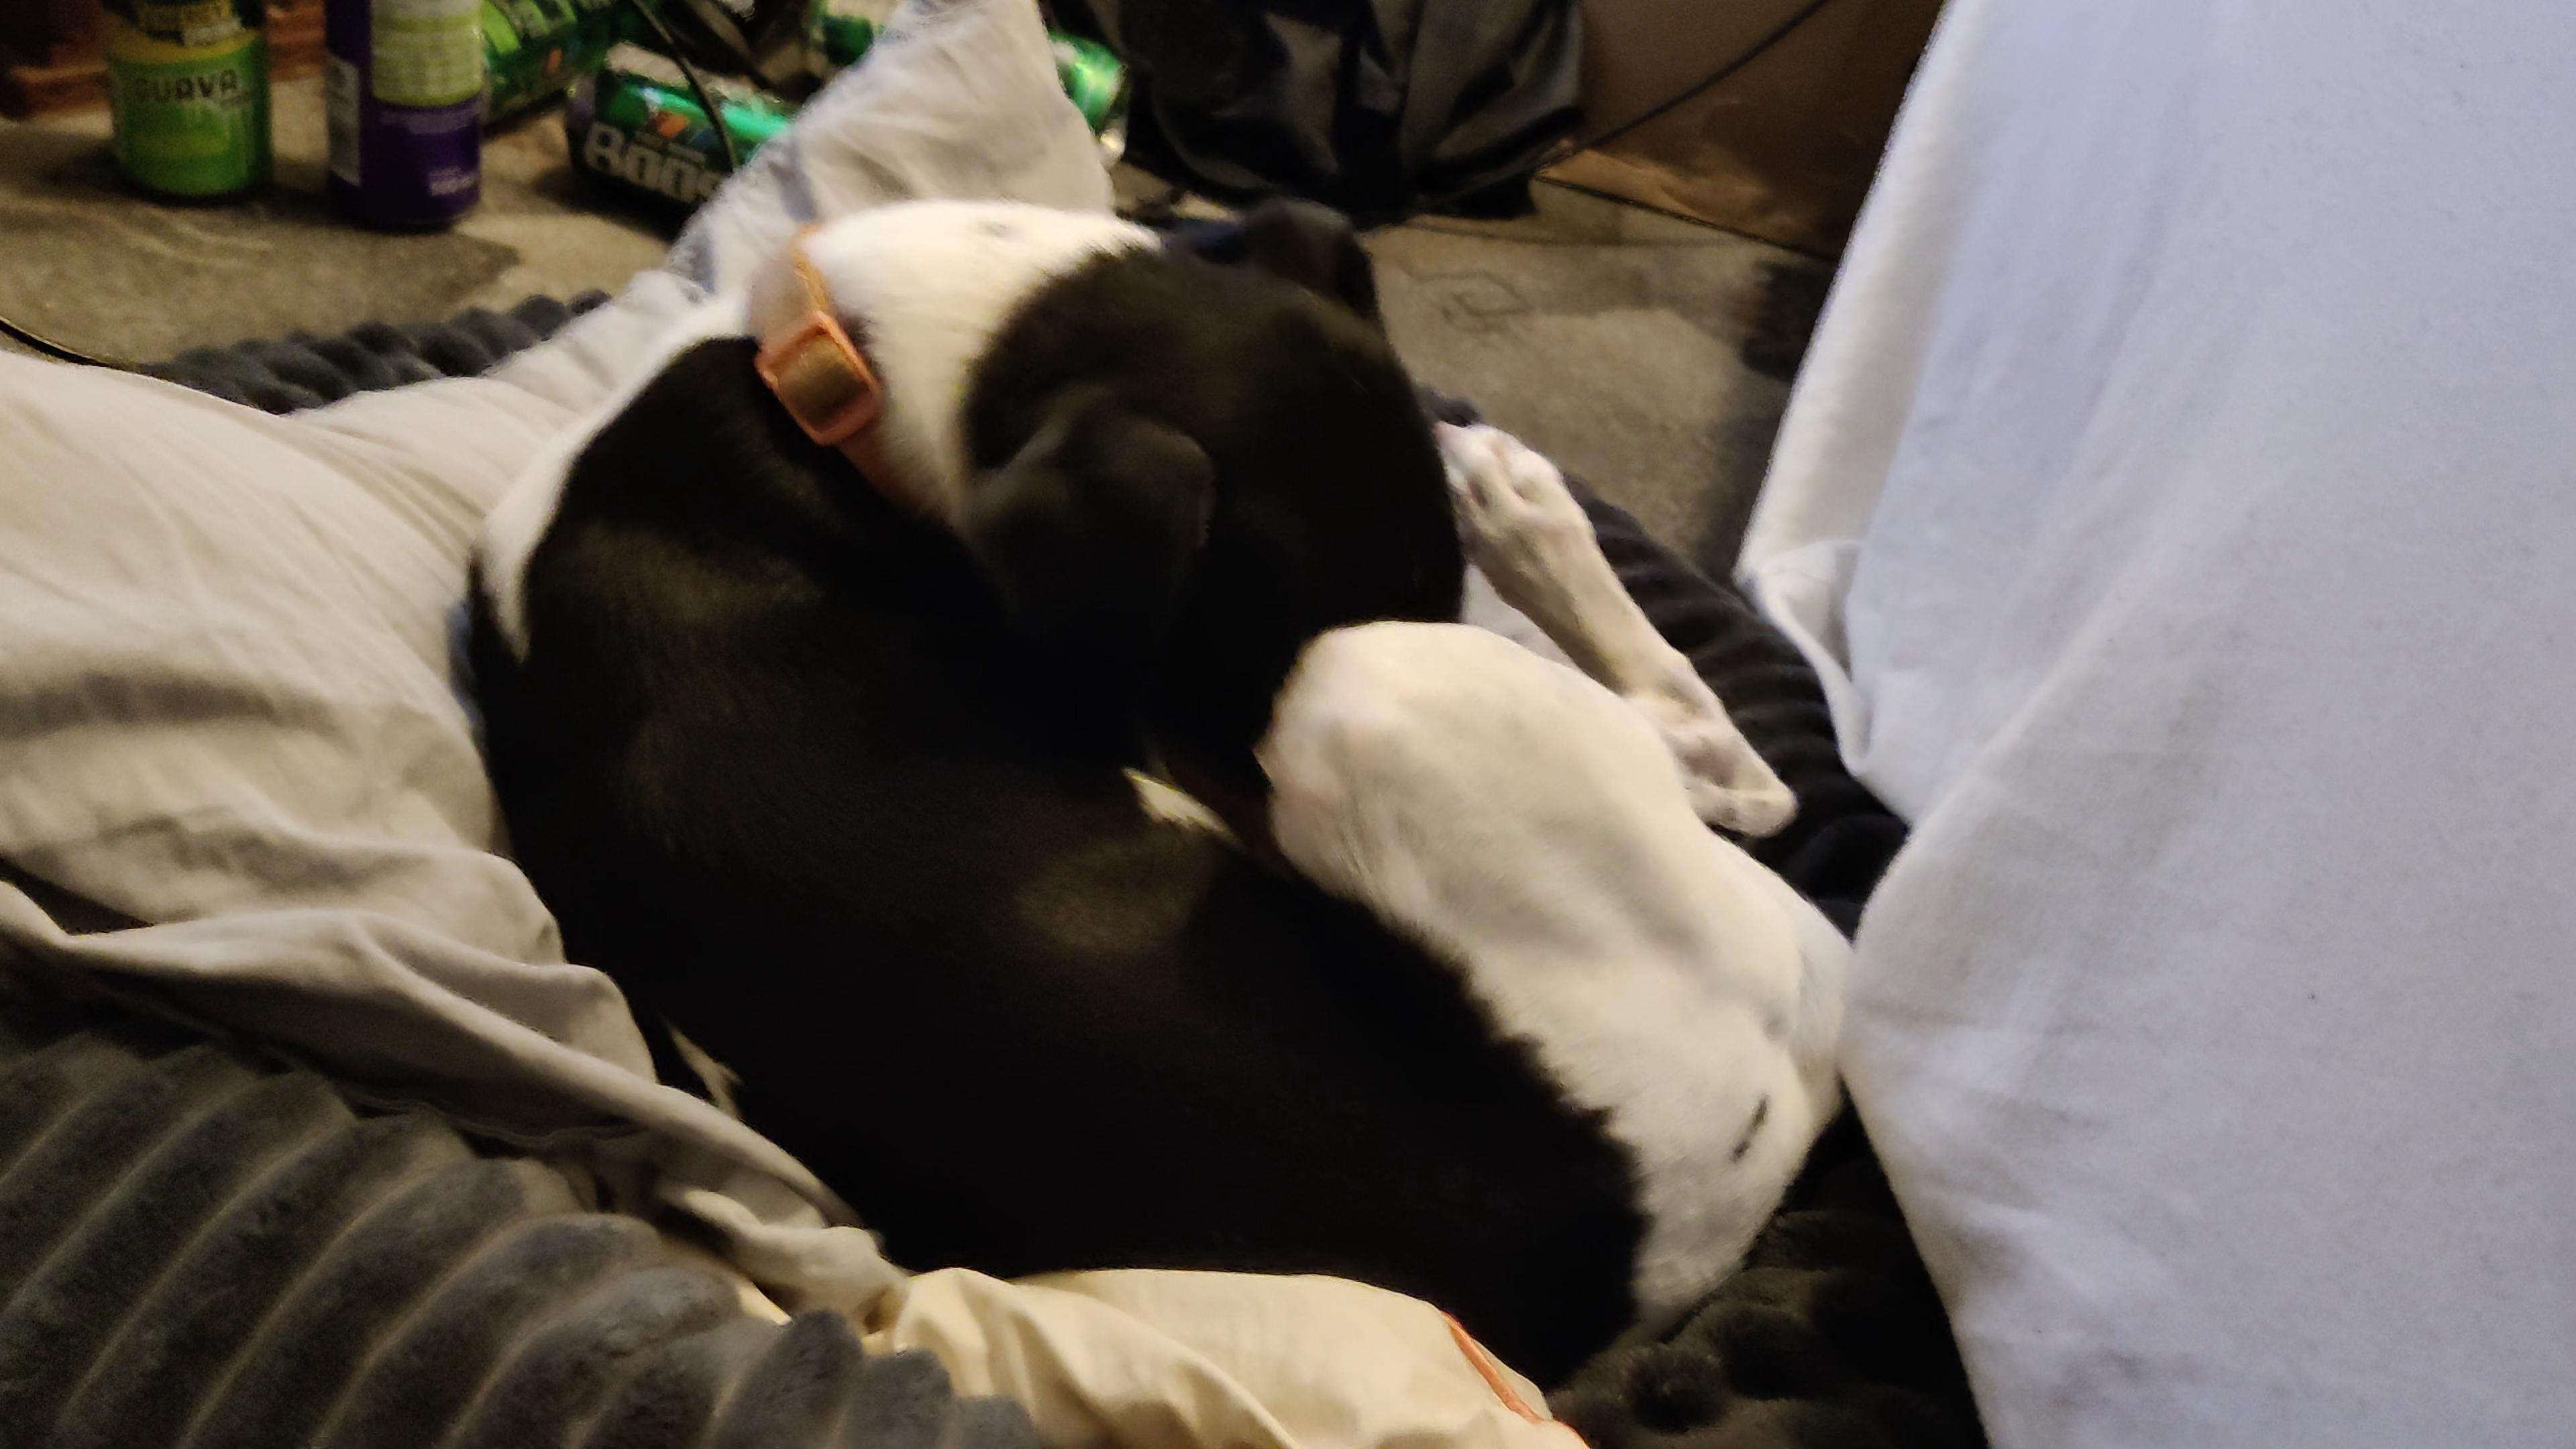Dog: (414, 161, 1939, 1407)
